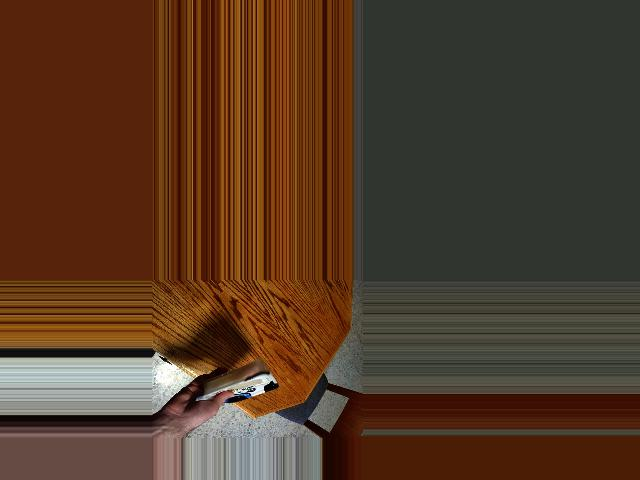cheese: (203, 356, 275, 417)
